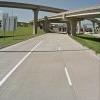Bridge: (8, 1, 95, 30)
